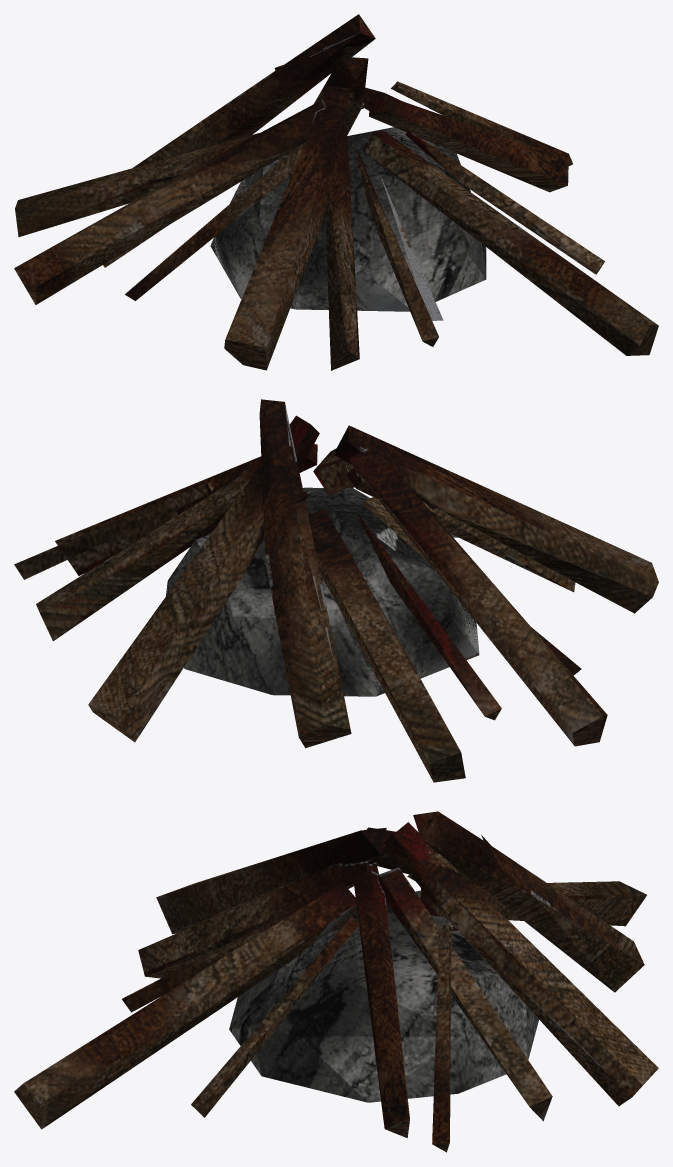
File: bonfire.glb
3 renders of one model, top to bottom at view 1: azimuth 30°, elevation 25°; view 2: azimuth 150°, elevation 25°; view 3: azimuth 270°, elevation 25°, orthographic. The views are drawn at different scales.
Parts seen in each view (by area): view 1: bonfire; view 2: bonfire; view 3: bonfire.
Part boxes in pixels (x1=…): bonfire: x1=14, y1=14, x2=658, y2=370; bonfire: x1=14, y1=399, x2=658, y2=782; bonfire: x1=14, y1=811, x2=658, y2=1152.
Bounding box in the file's own units: 0.9352 × 0.4091 × 0.8794.
Materials: 1 (1 with a texture image).
